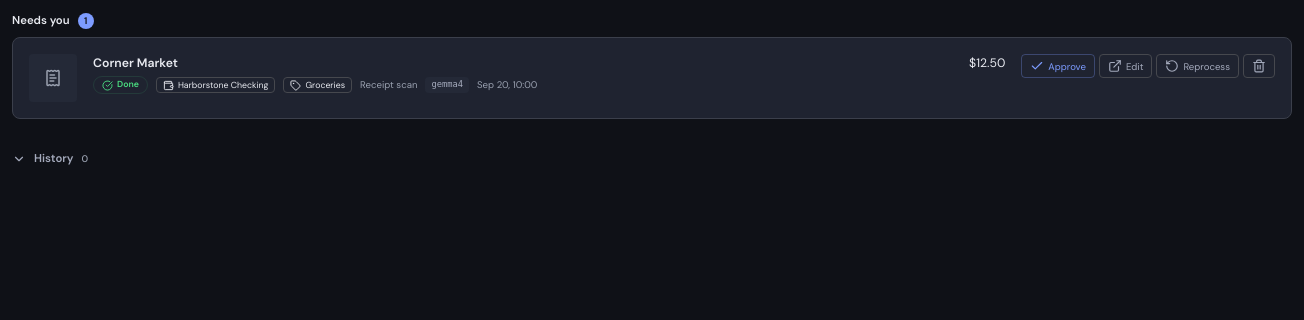
Test: changing it while the scan waits › offers only what a row may be filed to
Click the button "Groceries" at (318,85), box [284, 77, 352, 93]
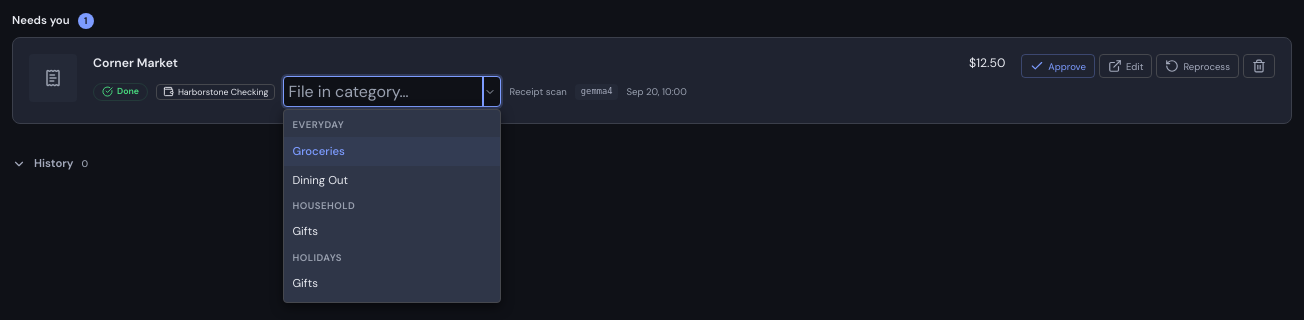
Expected: the option "Dining Out" is shown, [292, 173, 348, 188]
